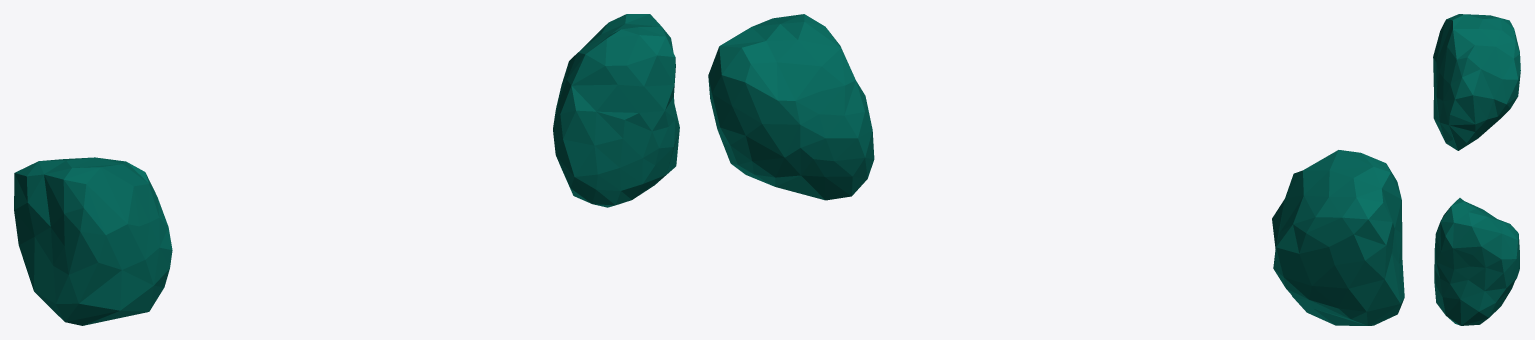
The model's file is 110-AHiMC-amygdalohippocampal area, magnocellular part-('0.0000', '0.4980', '0.4392').obj.
3 views of the same model, side by side, from view 1: azimuth 30°, elevation 25°; view 2: azimuth 150°, elevation 25°; view 3: azimuth 270°, elevation 25° (orthographic). The views are drawn at different scales.
Size of the model in its own units: 108 by 27.02 by 17.73.
